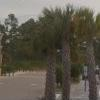Palm tree: (31, 4, 97, 97)
